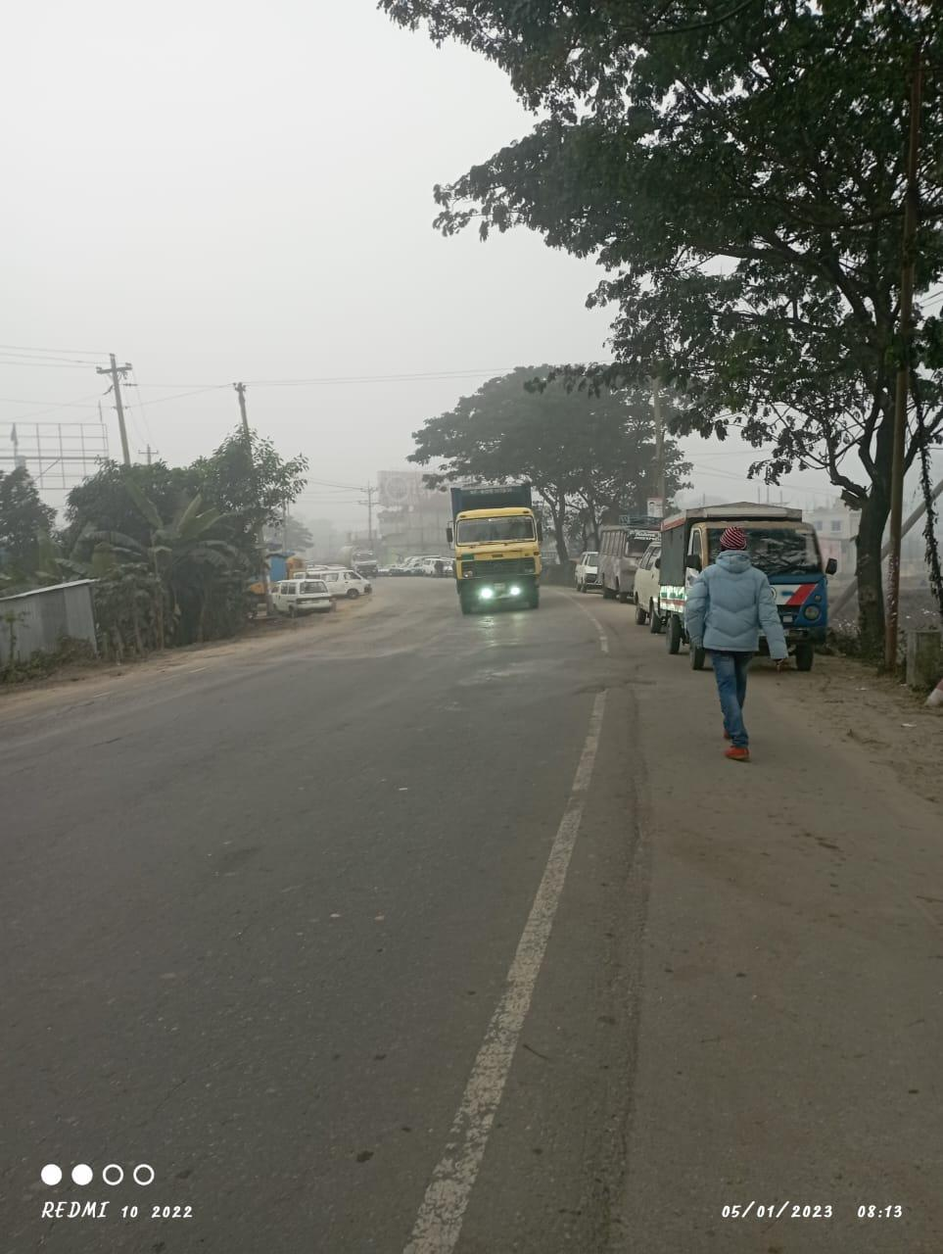Bus: (593, 510, 655, 603)
Car: (659, 495, 846, 677), (270, 568, 342, 619)
Truck: (439, 474, 552, 604)
